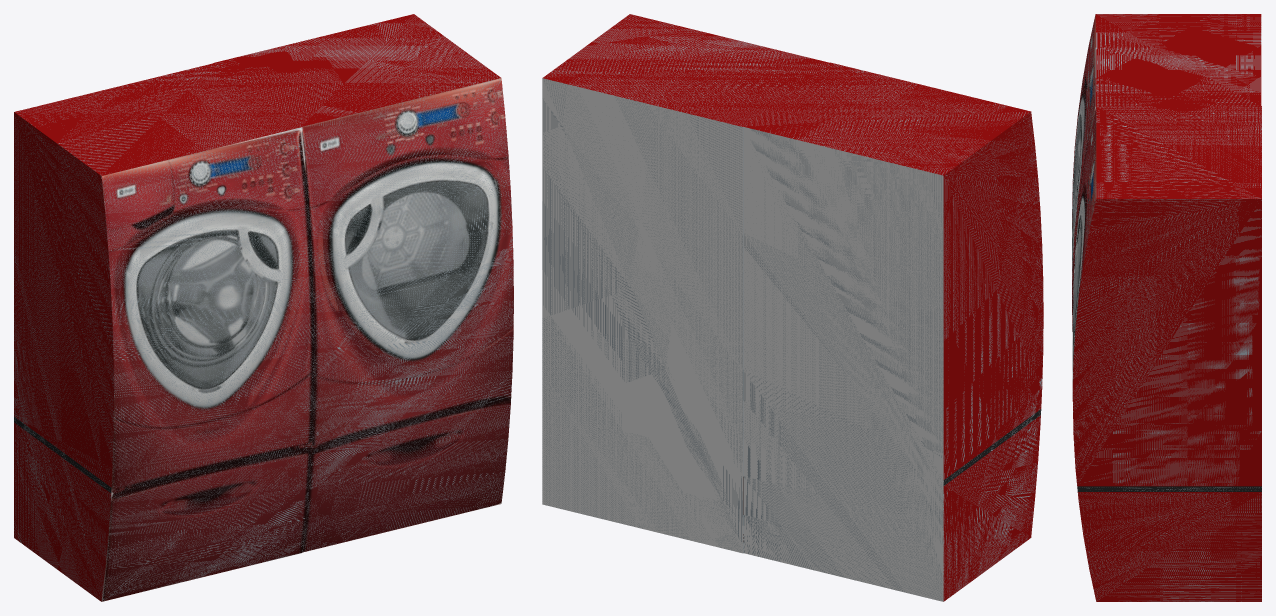
3 renders of one model, left to right at view 1: azimuth 30°, elevation 25°; view 2: azimuth 150°, elevation 25°; view 3: azimuth 270°, elevation 25°, orthographic. The views are drawn at different scales.
Parts seen in each view (by area): view 1: Component_3 (×3), dryer (×2); view 2: Component_3 (×3), dryer (×2); view 3: dryer (×4), Component_3 (×2).
Boxes of the visible parts, bbox=[...] form: Component_3 (×3): bbox=[14, 63, 314, 601]; dryer (×2): bbox=[213, 14, 513, 552]; Component_3 (×3): bbox=[743, 62, 1043, 601]; dryer (×2): bbox=[542, 14, 830, 553]; dryer (×4): bbox=[1072, 106, 1261, 601]; Component_3 (×2): bbox=[1072, 14, 1261, 331].
Size of the model in its own units: 54.25 by 23.55 by 55.14.
Materials: 7 (3 with a texture image).
